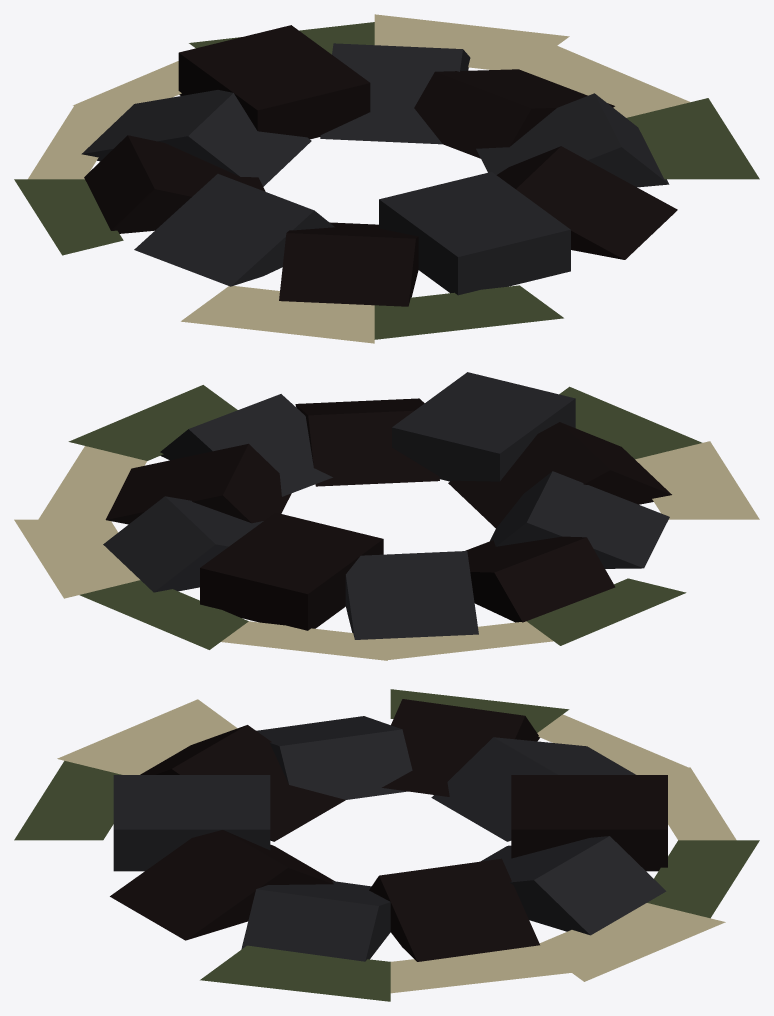
File: drowned_float_tire.glb
3 renders of one model, top to bottom at view 1: azimuth 30°, elevation 25°; view 2: azimuth 150°, elevation 25°; view 3: azimuth 270°, elevation 25°, orthographic. The views are drawn at different scales.
Parts seen in each view (by area): view 1: drowned_float_tire; view 2: drowned_float_tire; view 3: drowned_float_tire.
Boxes of the visible parts, bbox=[...] form: drowned_float_tire: bbox=[14, 14, 759, 343]; drowned_float_tire: bbox=[14, 372, 759, 660]; drowned_float_tire: bbox=[14, 689, 759, 1001].
Size of the model in its own units: 1.13 by 0.07 by 1.14.
